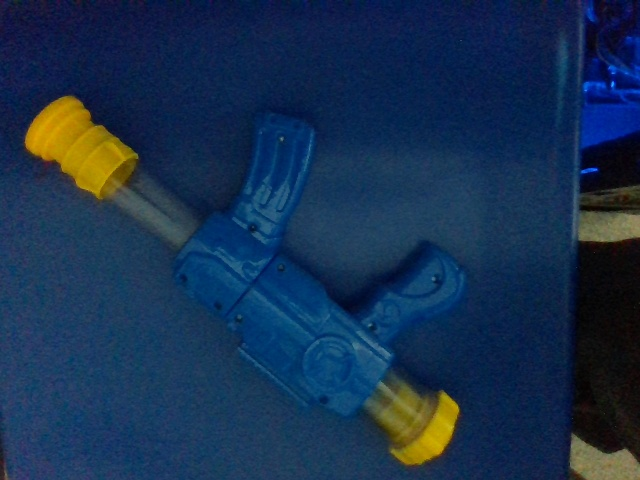screw hole: (431, 273, 441, 285), (366, 322, 378, 332), (318, 394, 328, 405), (277, 134, 287, 144), (248, 222, 258, 232), (178, 274, 188, 283), (277, 263, 286, 273), (234, 314, 243, 323), (214, 301, 222, 310)
toy: (25, 94, 468, 466)
